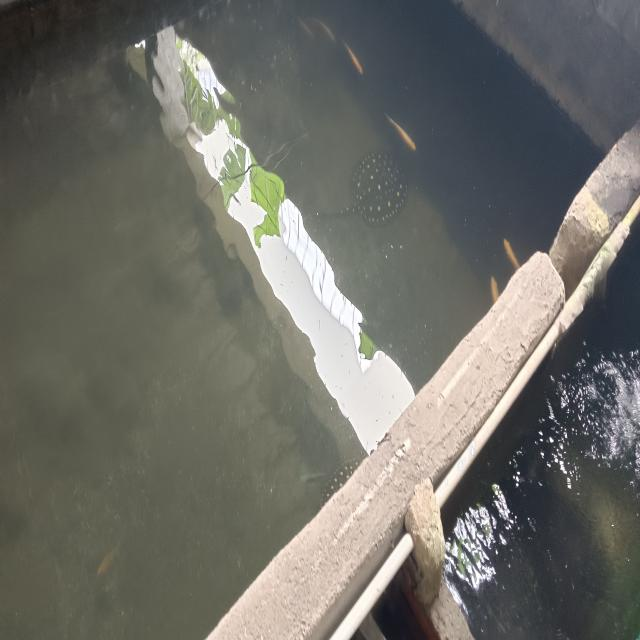black-diamond-sting-ray: (325, 110, 423, 269)
